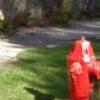Hydrant: (57, 28, 100, 100)
